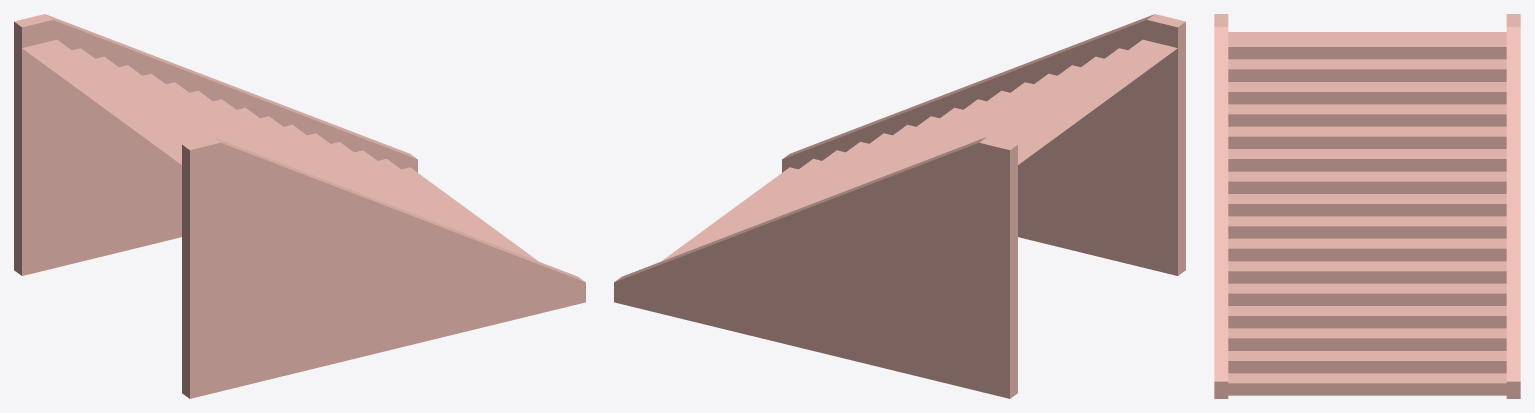
File: Mega_Asset_s_Pack_Plane_008.FBX
3 renders of one model, left to right at view 1: azimuth 30°, elevation 25°; view 2: azimuth 150°, elevation 25°; view 3: azimuth 270°, elevation 25°, orthographic. The views are drawn at different scales.
Parts seen in each view (by area): view 1: Mega_Asset_s_Pack_Plane_008; view 2: Mega_Asset_s_Pack_Plane_008; view 3: Mega_Asset_s_Pack_Plane_008.
Boxes of the visible parts, x1=… form: Mega_Asset_s_Pack_Plane_008: x1=14, y1=14, x2=585, y2=398; Mega_Asset_s_Pack_Plane_008: x1=614, y1=14, x2=1185, y2=398; Mega_Asset_s_Pack_Plane_008: x1=1214, y1=14, x2=1520, y2=398.
Size of what is drawn, in the model's own units: 895 by 688 by 537.
